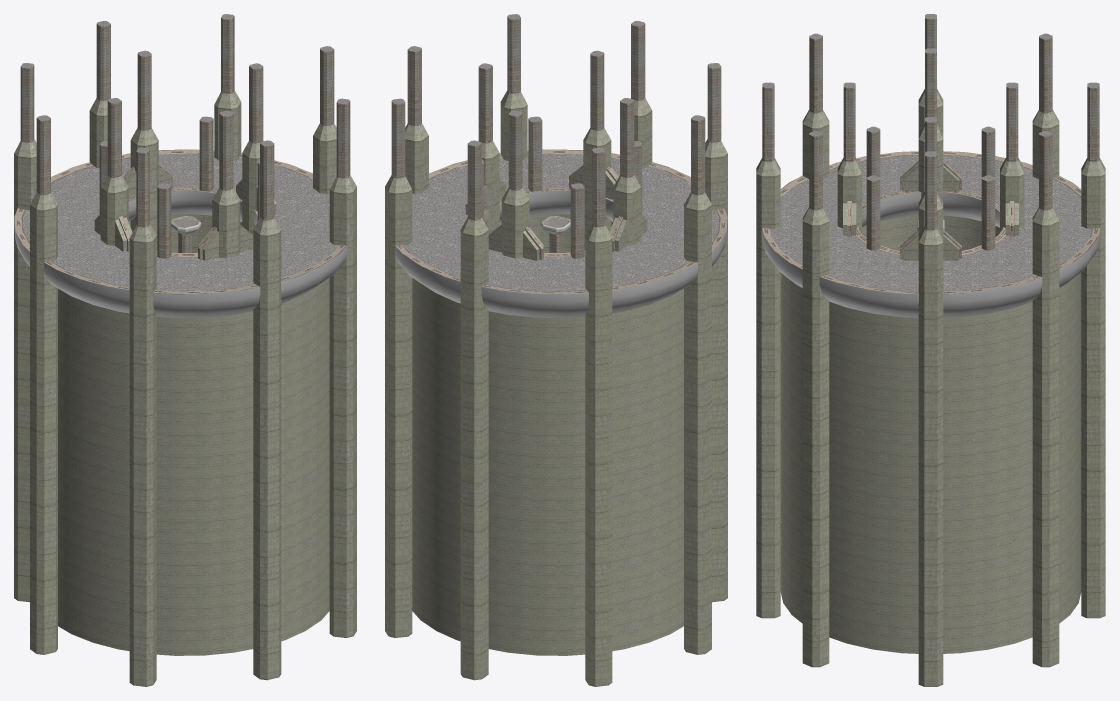
Rendered from Dragonfly_Pillars_Alt.fbx.
3 views of the same model, side by side, from view 1: azimuth 30°, elevation 25°; view 2: azimuth 150°, elevation 25°; view 3: azimuth 270°, elevation 25° (orthographic).
Visible parts, largest first — view 1: Circle, Cube2, Cube2.001; view 2: Circle, Cube2, Cube2.001; view 3: Circle, Cube2, Cube2.001.
Part boxes in pixels (bbox=[...]): Circle: bbox=[14, 149, 346, 655]; Cube2: bbox=[14, 14, 356, 686]; Cube2.001: bbox=[94, 165, 276, 260]; Circle: bbox=[395, 149, 727, 655]; Cube2: bbox=[385, 14, 727, 686]; Cube2.001: bbox=[465, 165, 647, 260]; Circle: bbox=[761, 151, 1100, 653]; Cube2: bbox=[756, 14, 1105, 686]; Cube2.001: bbox=[843, 161, 1018, 260].
Bounding box in the file's own units: 129 × 215 × 129.
